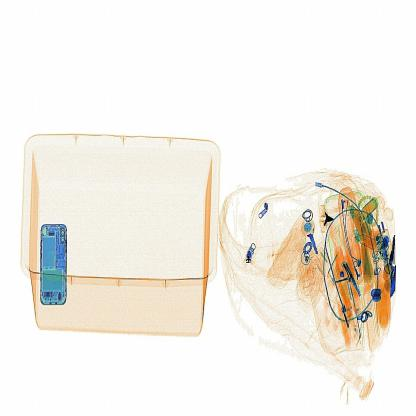gun: (312, 198, 341, 237)
